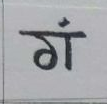anusvara: (58, 19, 68, 26)
